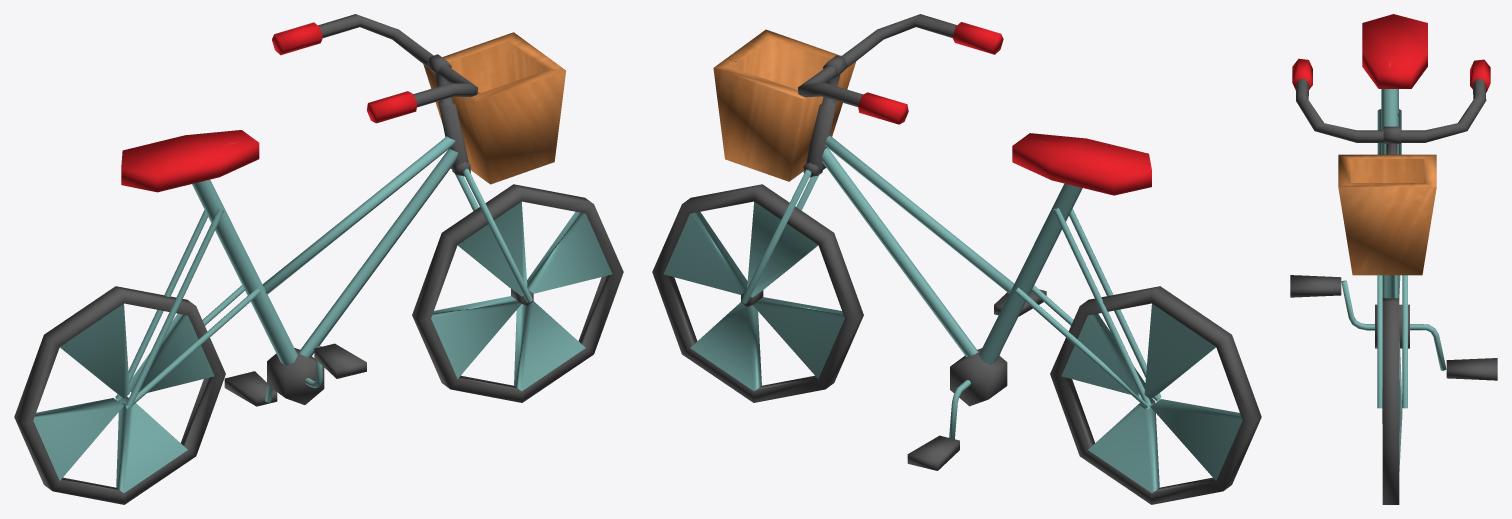
3 views of the same model, side by side, from view 1: azimuth 30°, elevation 25°; view 2: azimuth 150°, elevation 25°; view 3: azimuth 270°, elevation 25° (orthographic). The views are drawn at different scales.
Parts seen in each view (by area): view 1: Cube.001; view 2: Cube.001; view 3: Cube.001.
Boxes of the visible parts, bbox=[...] form: Cube.001: bbox=[14, 14, 623, 504]; Cube.001: bbox=[652, 14, 1261, 504]; Cube.001: bbox=[1290, 14, 1497, 504].
Size of the model in its own units: 974 by 595 by 310.
4 materials, 3 textured.
